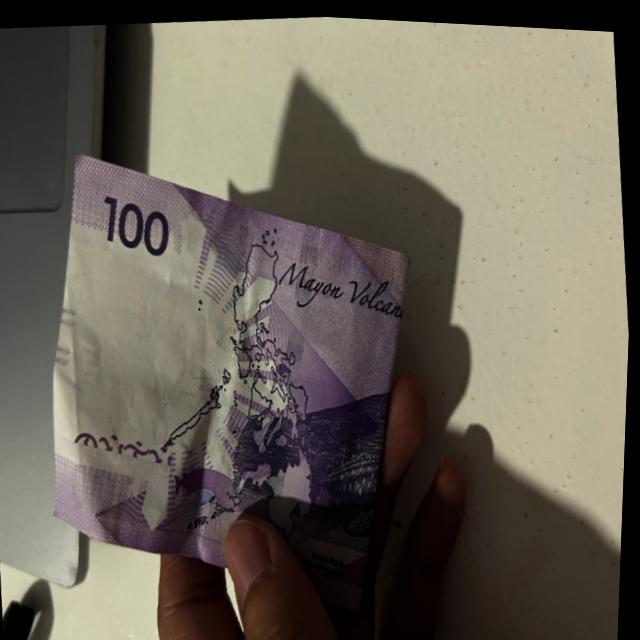100_whale: (303, 408, 383, 526)
100_whale_watermark: (175, 453, 240, 507)
value_watermark: (73, 330, 111, 398)
